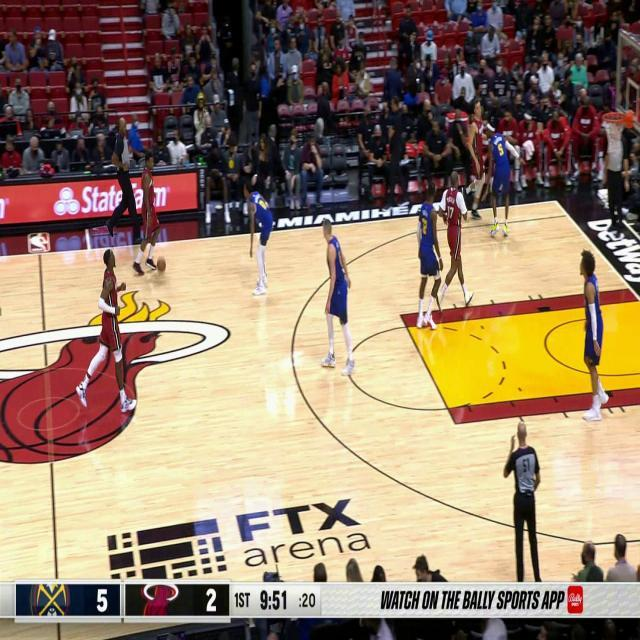rim: (156, 255, 167, 274)
